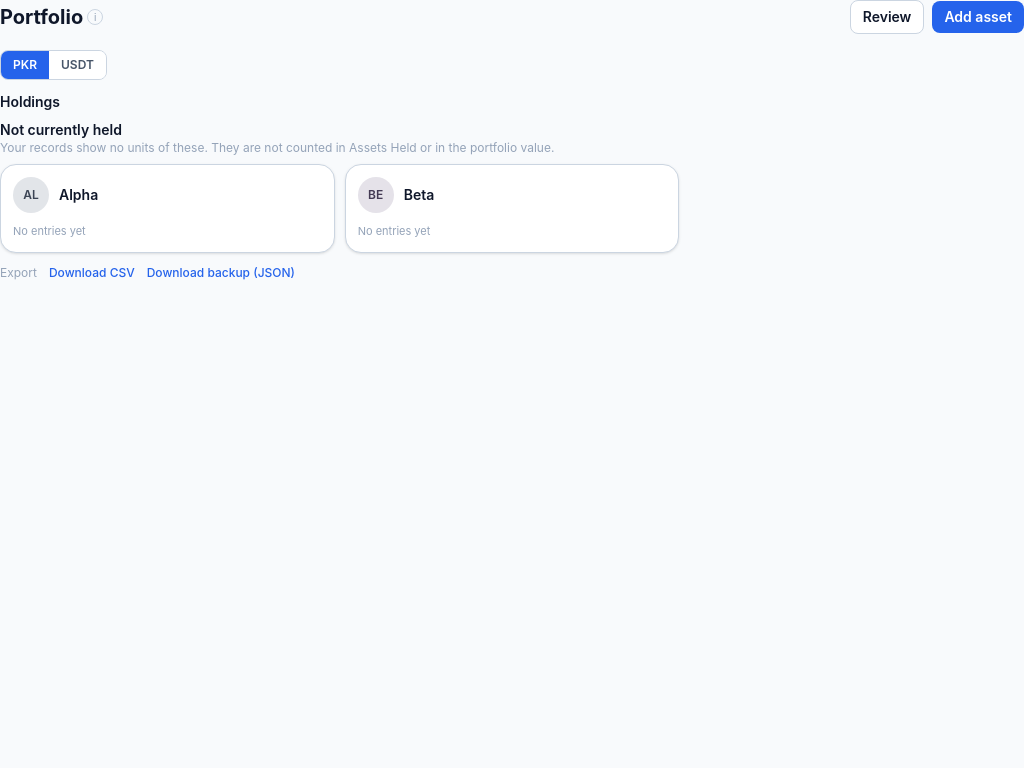
it: delete › shows the server message if the delete is refused
The width and height of the screenshot is (1024, 768).
Click the button "AL Alpha No entries yet". click: (31, 195)
box: [0,164,335,252]
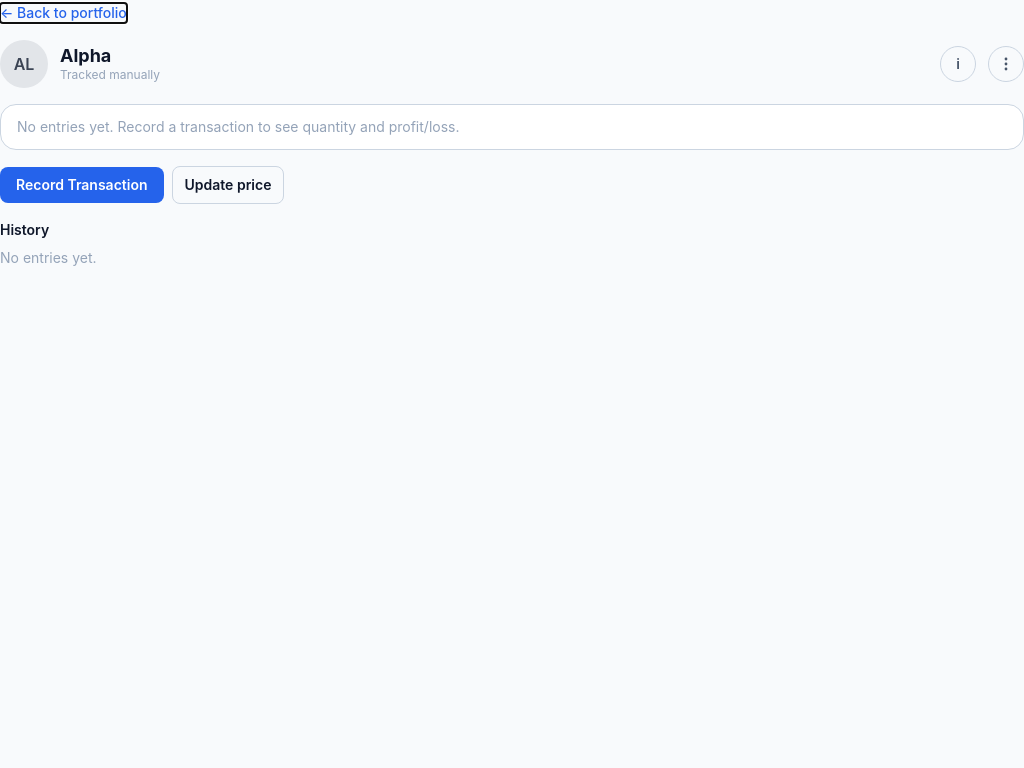
Click the button named "More actions". click: (1006, 64)
box: [988,46,1023,82]
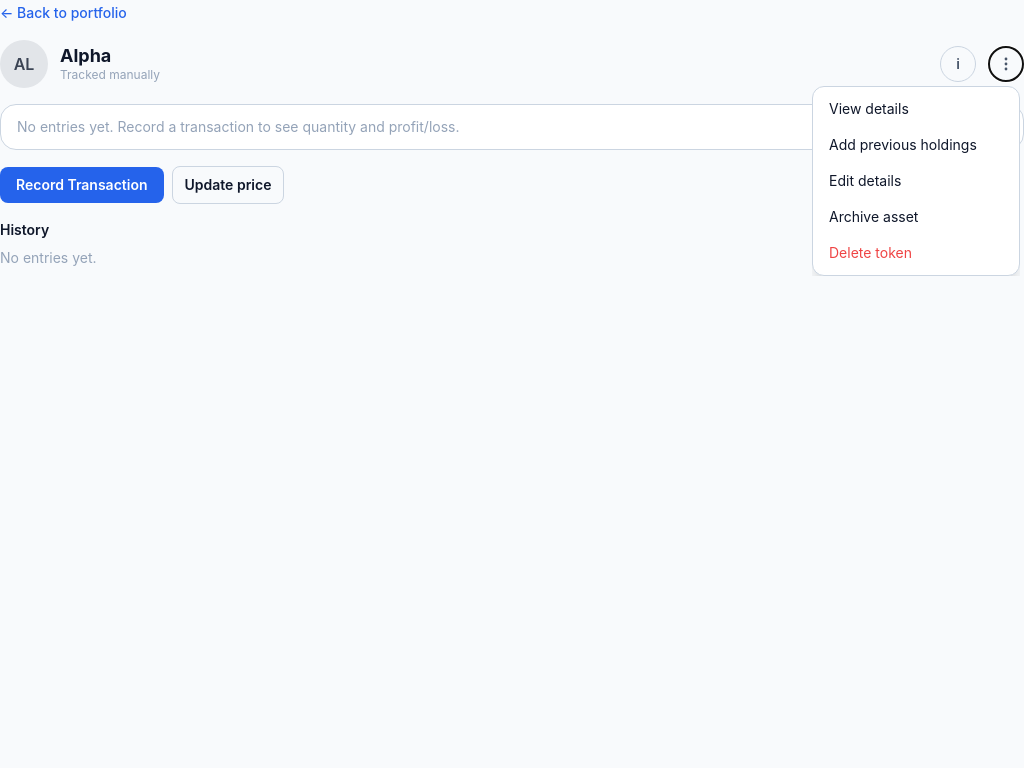
Click the menu item "Delete token". click: (916, 253)
box: [813,235,1019,271]
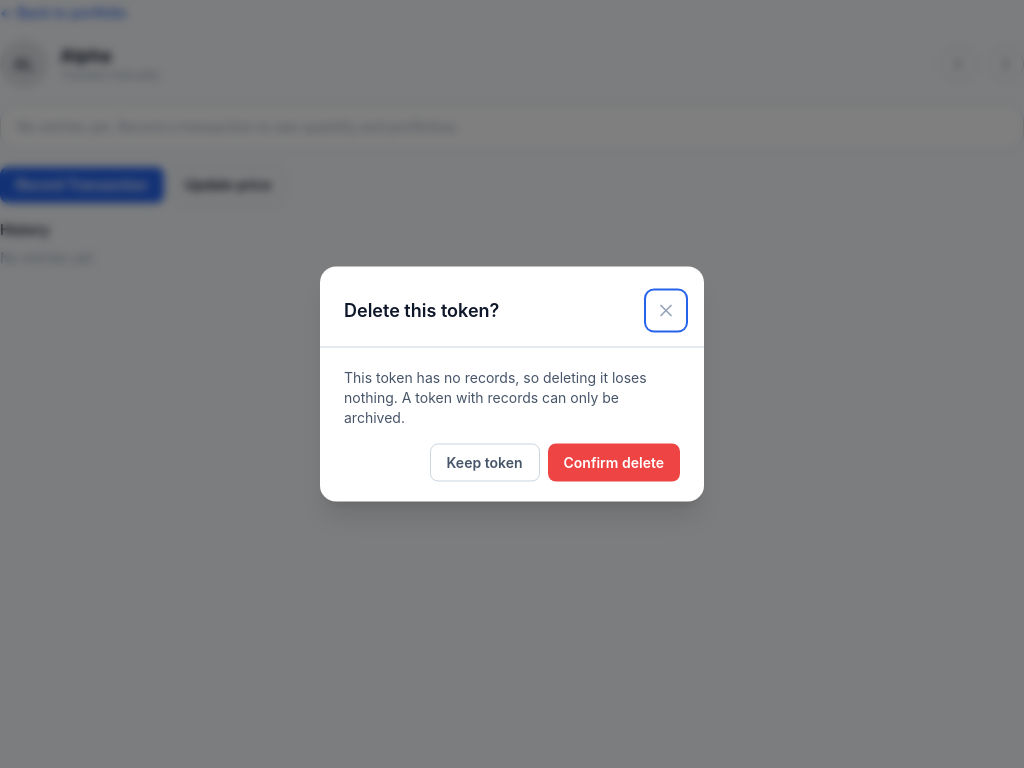
Click the button "Confirm delete". click: (614, 462)
box: [548,444,680,482]
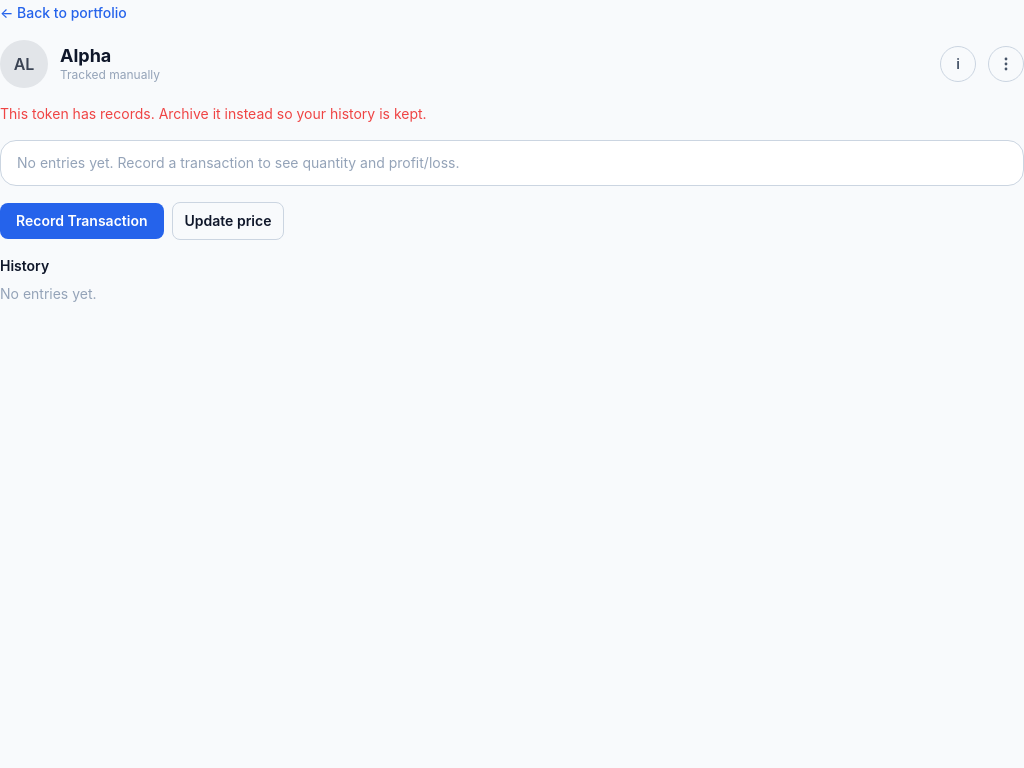
Expected: the text "This token has records. Archive it instead so your history is kept." is shown, [0,105,427,122]
